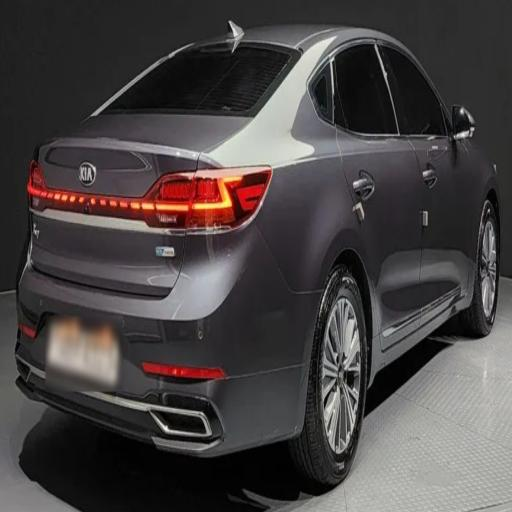scratch: (131, 136, 312, 348)
